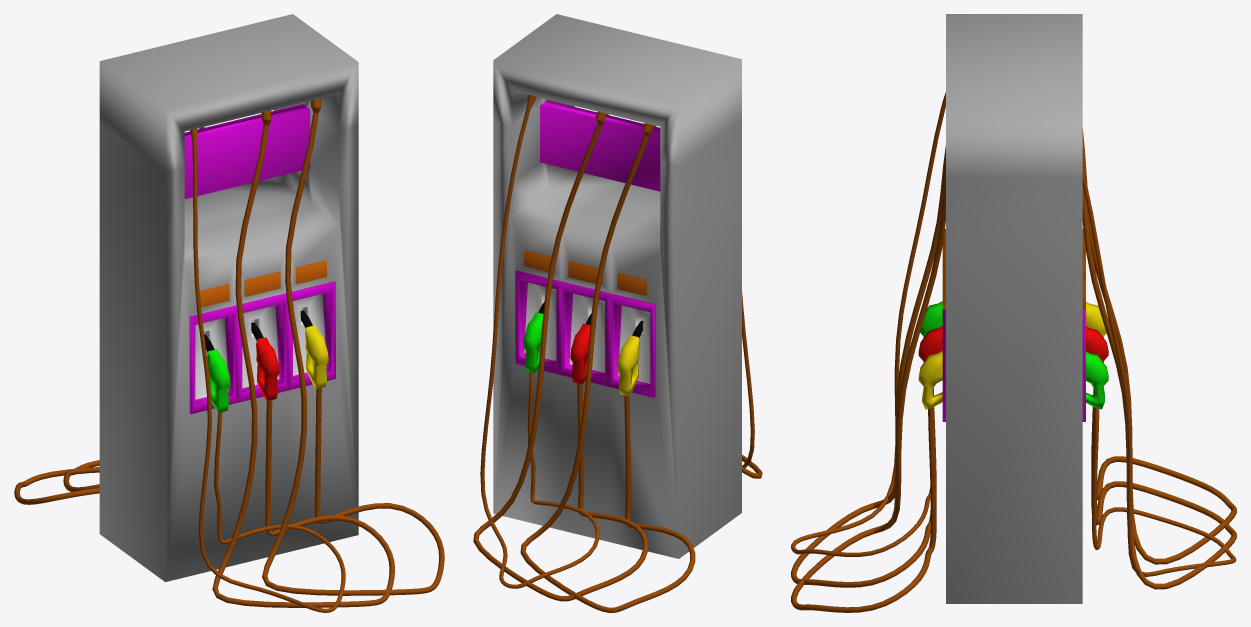
File: GasPump.fbx
3 renders of one model, left to right at view 1: azimuth 30°, elevation 25°; view 2: azimuth 150°, elevation 25°; view 3: azimuth 270°, elevation 25°, orthographic. The views are drawn at different scales.
Parts seen in each view (by area): view 1: GasPump; view 2: GasPump; view 3: GasPump.
Boxes of the visible parts, left/top/right/bottom form: GasPump: left=14, top=14, right=444, bottom=612; GasPump: left=473, top=14, right=762, bottom=612; GasPump: left=791, top=14, right=1236, bottom=612.
Size of the model in its own units: 185 by 300 by 244.
